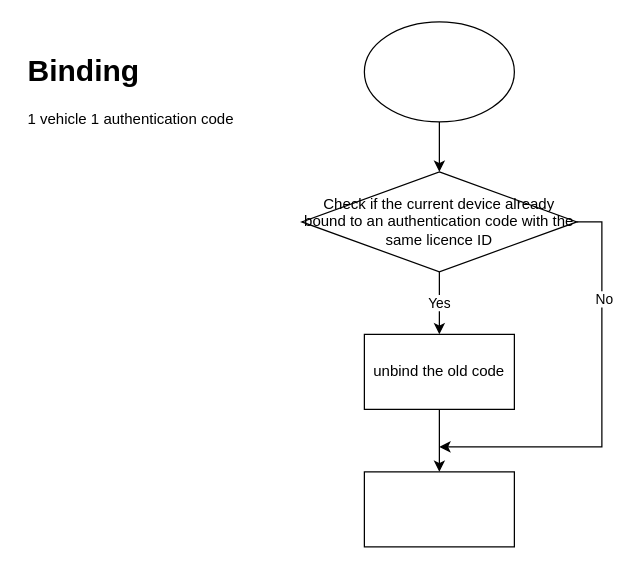
This 634x569 diagram has some shape labels left out. The centre of each missing label's shape, as x and y in pixels:
"bind the new code" goes at point (438, 509).
"Received new authentication code" goes at point (438, 71).
